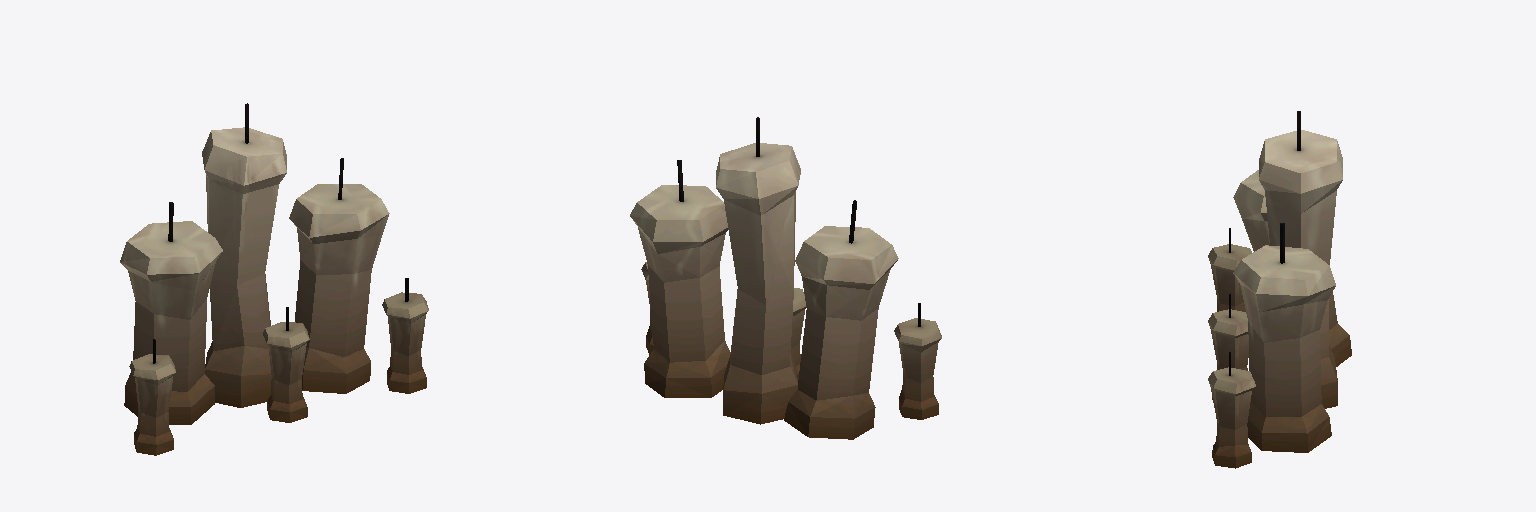
3 views of the same model, side by side, from view 1: azimuth 30°, elevation 25°; view 2: azimuth 150°, elevation 25°; view 3: azimuth 270°, elevation 25° (orthographic).
Parts seen in each view (by area): view 1: Model_GraveyardCandle_03; view 2: Model_GraveyardCandle_03; view 3: Model_GraveyardCandle_03.
Boxes of the visible parts, x1=… form: Model_GraveyardCandle_03: x1=120, y1=103, x2=428, y2=455; Model_GraveyardCandle_03: x1=630, y1=117, x2=941, y2=439; Model_GraveyardCandle_03: x1=1208, y1=111, x2=1351, y2=468.
Bounding box in the file's own units: 0.379 × 0.3527 × 0.1594.
1 materials, 1 textured.